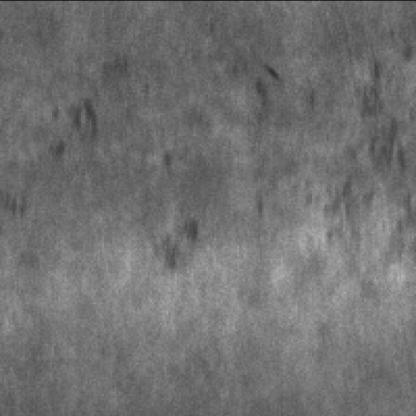rolled-in_scale: (312, 48, 412, 243), (235, 66, 308, 218), (133, 143, 202, 280), (42, 100, 100, 164)
